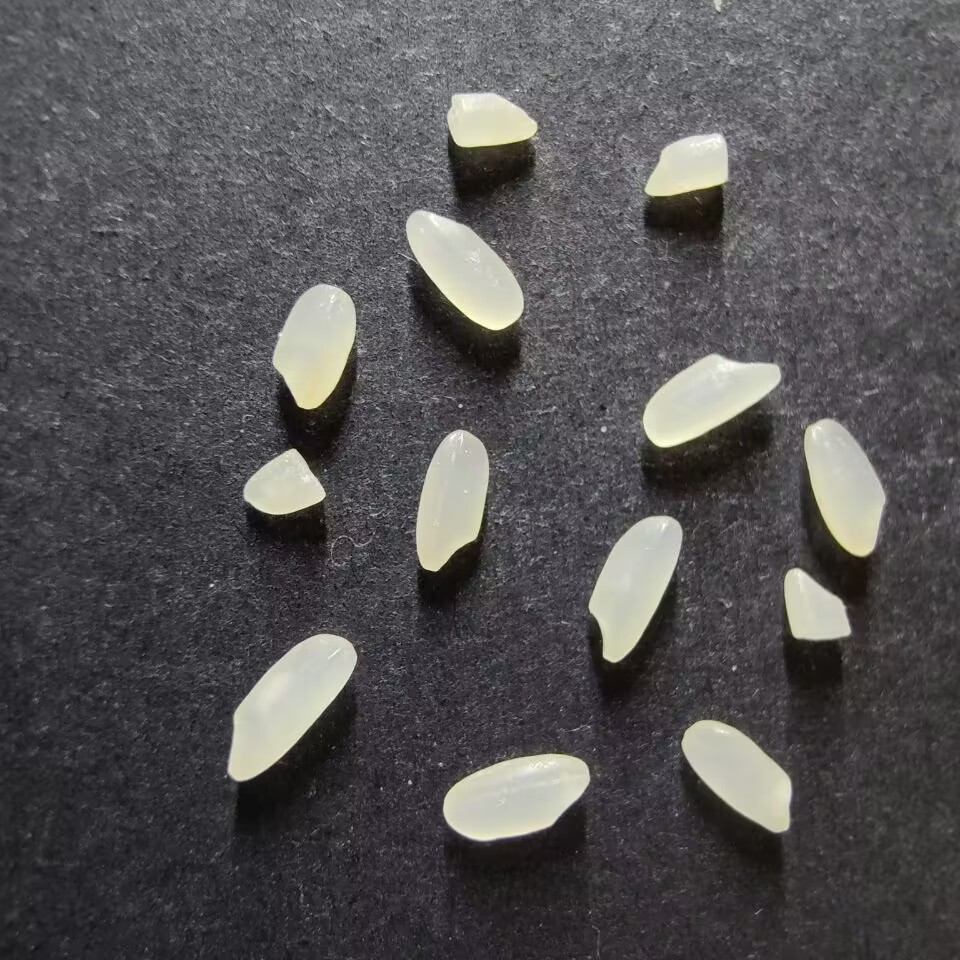broken: (242, 447, 326, 515), (642, 132, 729, 197), (445, 92, 537, 148), (783, 567, 851, 641)
rice: (226, 633, 357, 782), (405, 209, 525, 330), (587, 515, 682, 663), (642, 353, 781, 447), (442, 753, 590, 841), (681, 719, 792, 834), (803, 418, 886, 558), (414, 429, 489, 572), (272, 283, 356, 410)
